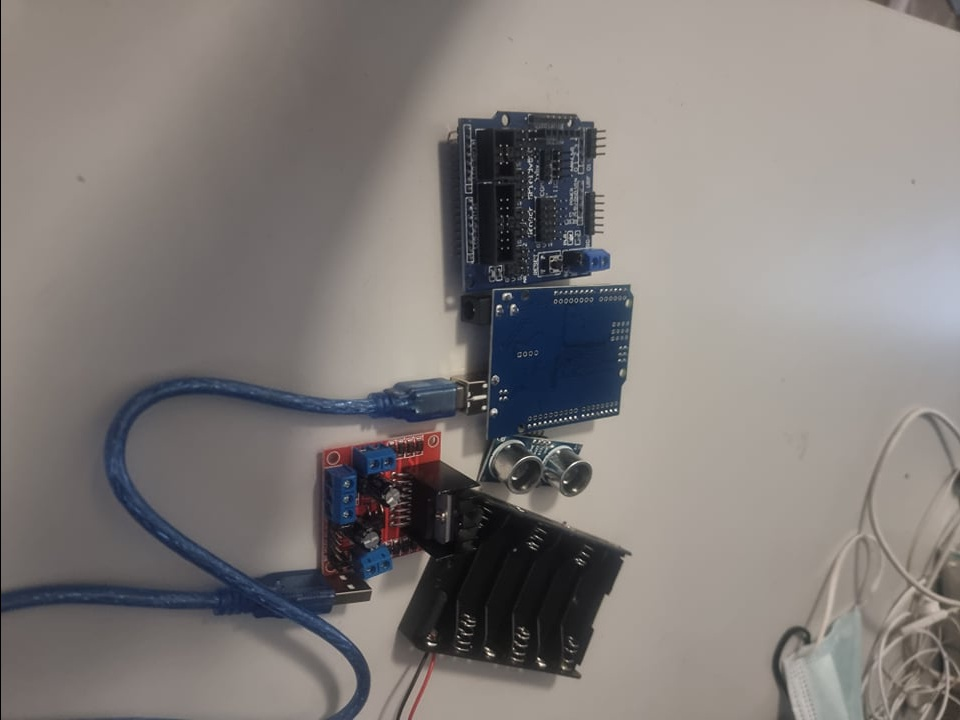5V EXPANSION: (450, 105, 609, 288)
BATTERY BOX: (397, 511, 640, 660)
MOTOR: (307, 436, 474, 593)
